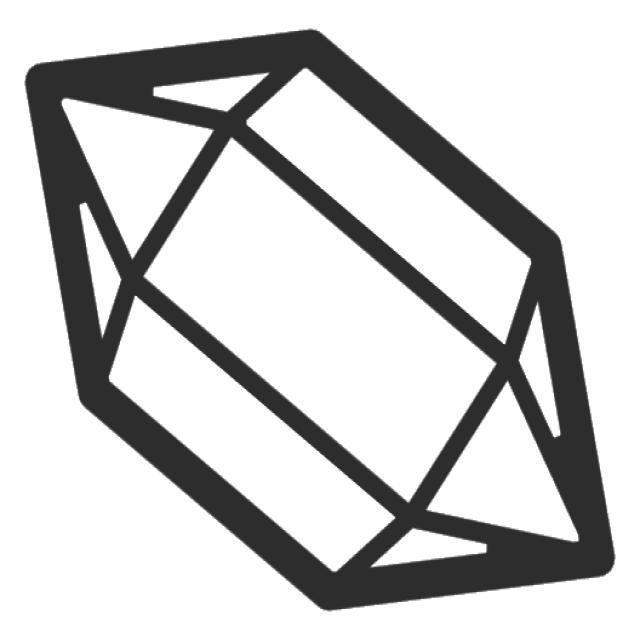crystal: (12, 15, 630, 626)
